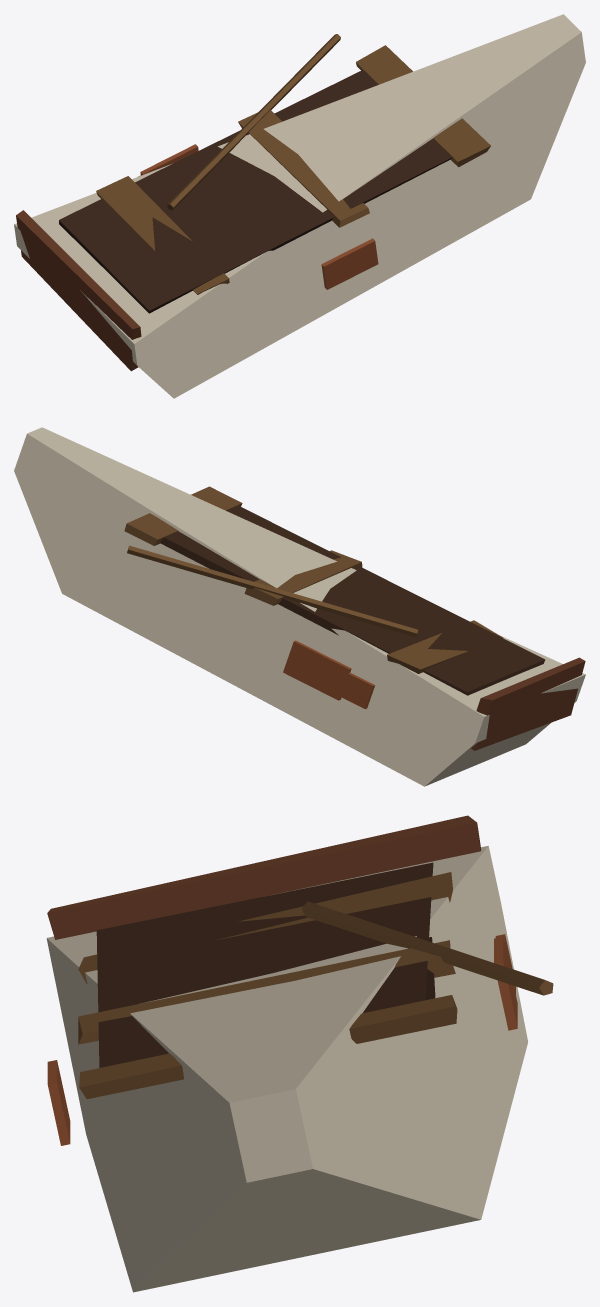
File: boat_skiff.glb
3 views of the same model, one above another, from view 1: azimuth 30°, elevation 25°; view 2: azimuth 150°, elevation 25°; view 3: azimuth 270°, elevation 25° (orthographic). The views are drawn at different scales.
Parts seen in each view (by area): view 1: boat_skiff; view 2: boat_skiff; view 3: boat_skiff.
Part boxes in pixels (x1,y1,x2,y2): boat_skiff: (14, 14, 585, 398); boat_skiff: (14, 427, 585, 786); boat_skiff: (46, 815, 553, 1292).
Bounding box in the file's own units: 5 × 2.21 × 2.13.
